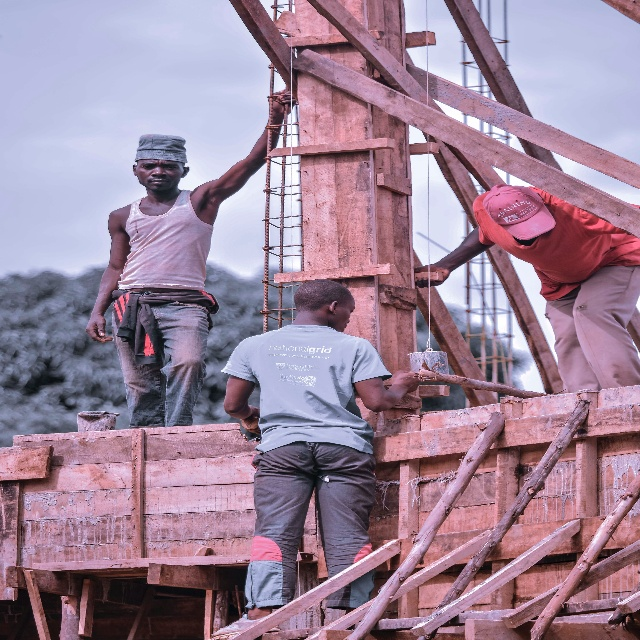Sin_guantes: (86, 313, 113, 341), (268, 87, 296, 114), (391, 369, 421, 393), (242, 408, 260, 435)
